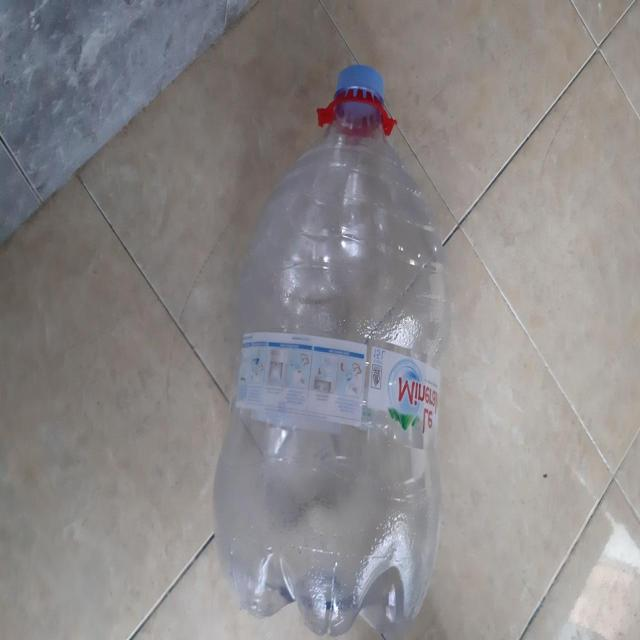Galon: (210, 68, 452, 640)
